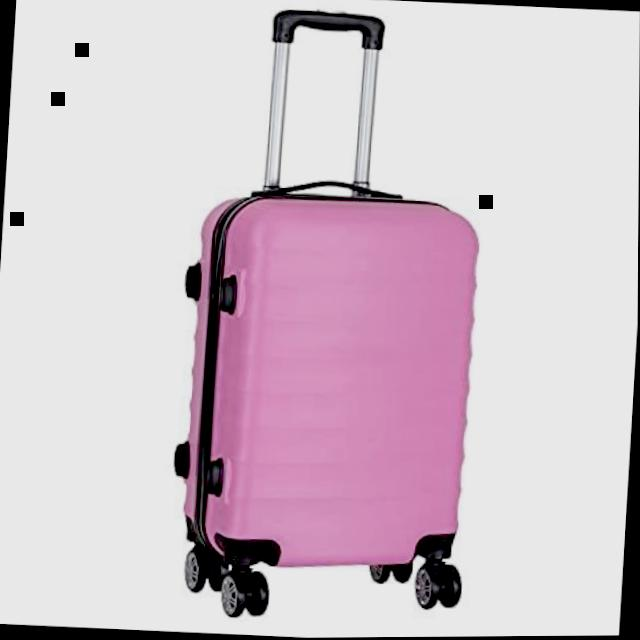luggage: (165, 170, 491, 583)
